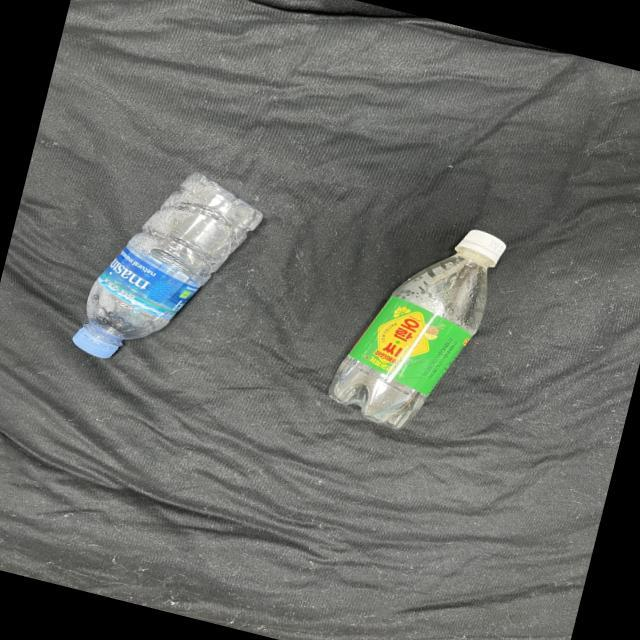good: (310, 206, 541, 449), (53, 151, 283, 378)
